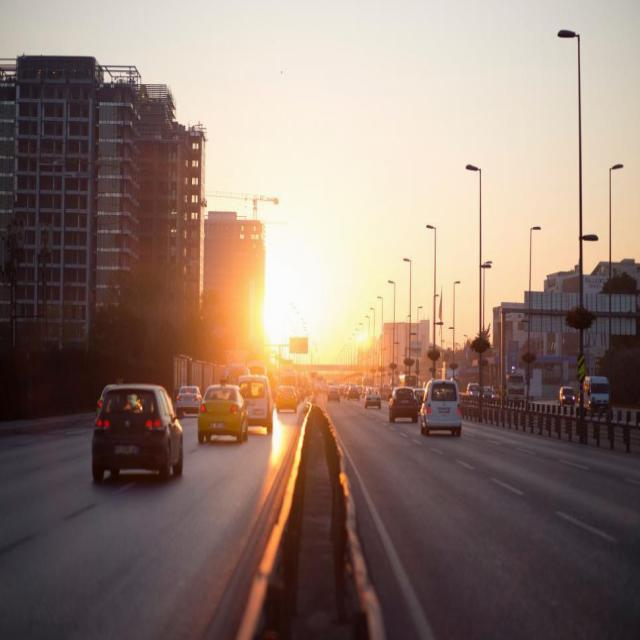Vehicle: (81, 391, 177, 492), (189, 387, 244, 448), (422, 378, 461, 453), (245, 374, 274, 424), (388, 385, 417, 429), (178, 378, 196, 408), (361, 387, 380, 413), (277, 388, 297, 412), (346, 382, 358, 404), (328, 388, 338, 404)
